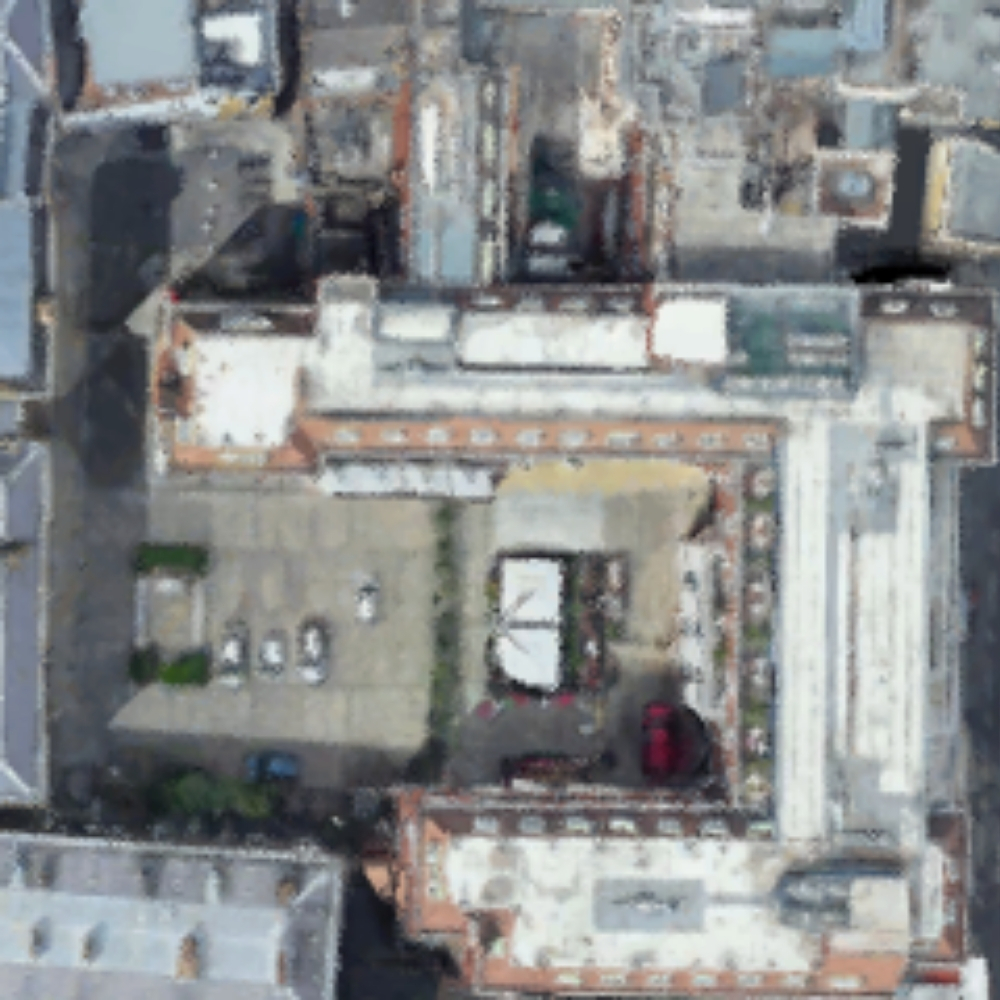parking: (50, 485, 430, 790)
